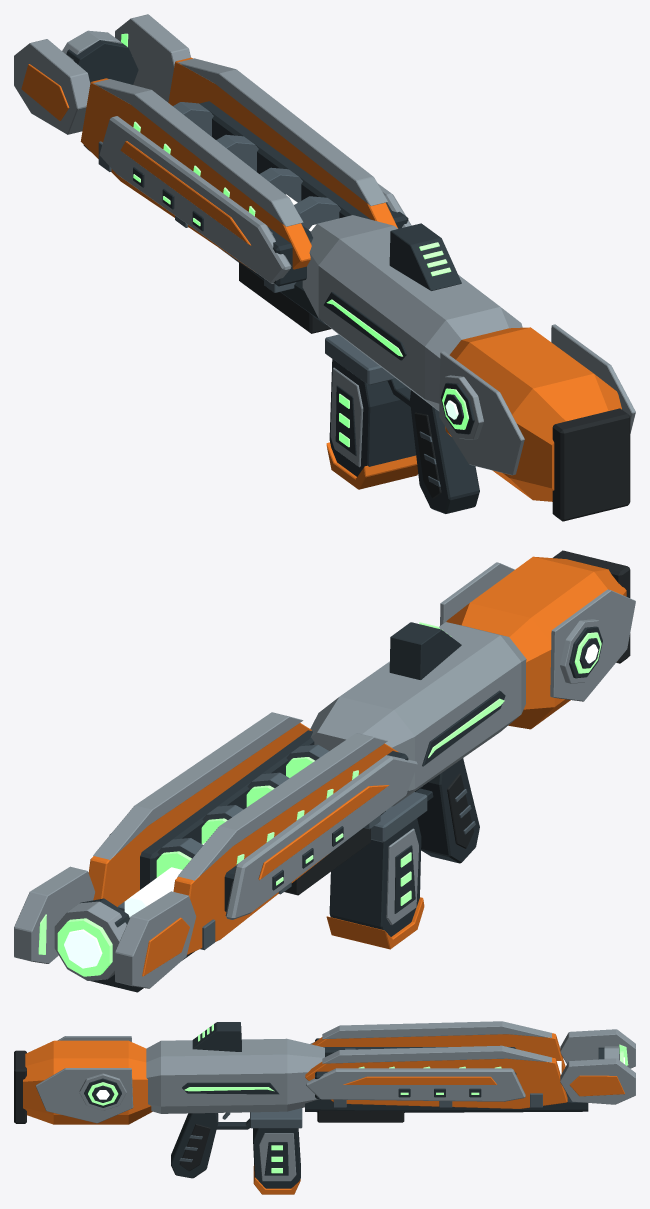
File: plasmarifle.glb
3 views of the same model, one above another, from view 1: azimuth 30°, elevation 25°; view 2: azimuth 150°, elevation 25°; view 3: azimuth 270°, elevation 25° (orthographic). The views are drawn at different scales.
Visible parts, largest first — view 1: Body | 01 | ceramic gray receiver, Body | 04 | burnt orange enamel, Body | 03 | graphite steel, Body | 05 | charcoal grip polymer, Magazine | 03 | graphite steel, Body | 02 | machined edge metal, Body | 06 | lime status emitters, Magazine | 04 | burnt orange enamel, Magazine | 02 | machined edge metal, Magazine | 01 | ceramic gray receiver; view 2: Body | 01 | ceramic gray receiver, Body | 04 | burnt orange enamel, Body | 03 | graphite steel, Magazine | 03 | graphite steel, Body | 06 | lime status emitters, Body | 05 | charcoal grip polymer, Body | 02 | machined edge metal, Body | 08 | plasma heart, Magazine | 04 | burnt orange enamel, Magazine | 02 | machined edge metal, Magazine | 01 | ceramic gray receiver; view 3: Body | 01 | ceramic gray receiver, Body | 04 | burnt orange enamel, Body | 03 | graphite steel, Body | 05 | charcoal grip polymer, Magazine | 03 | graphite steel, Magazine | 01 | ceramic gray receiver, Body | 06 | lime status emitters, Magazine | 02 | machined edge metal, Body | 02 | machined edge metal, Magazine | 04 | burnt orange enamel.
Part boxes in pixels (<box>): Body | 01 | ceramic gray receiver: <box>14,14,635,475</box>; Body | 04 | burnt orange enamel: <box>21,57,621,501</box>; Body | 03 | graphite steel: <box>66,40,479,513</box>; Body | 05 | charcoal grip polymer: <box>239,262,630,521</box>; Magazine | 03 | graphite steel: <box>329,359,415,476</box>; Body | 02 | machined edge metal: <box>98,102,440,486</box>; Body | 06 | lime status emitters: <box>121,33,468,429</box>; Magazine | 04 | burnt orange enamel: <box>326,442,418,489</box>; Magazine | 02 | machined edge metal: <box>325,334,395,385</box>; Magazine | 01 | ceramic gray receiver: <box>330,367,363,467</box>; Body | 01 | ceramic gray receiver: <box>14,562,635,988</box>; Body | 04 | burnt orange enamel: <box>88,556,626,976</box>; Body | 03 | graphite steel: <box>80,622,602,992</box>; Magazine | 03 | graphite steel: <box>329,818,421,936</box>; Body | 06 | lime status emitters: <box>38,622,601,976</box>; Body | 05 | charcoal grip polymer: <box>284,550,630,895</box>; Body | 02 | machined edge metal: <box>118,744,475,950</box>; Body | 08 | plasma heart: <box>64,644,598,968</box>; Magazine | 04 | burnt orange enamel: <box>326,897,424,949</box>; Magazine | 02 | machined edge metal: <box>371,792,427,842</box>; Magazine | 01 | ceramic gray receiver: <box>386,828,418,924</box>; Body | 01 | ceramic gray receiver: <box>35,1021,635,1123</box>; Body | 04 | burnt orange enamel: <box>23,1033,624,1124</box>; Body | 03 | graphite steel: <box>84,1022,604,1178</box>; Body | 05 | charcoal grip polymer: <box>14,1050,404,1171</box>; Magazine | 03 | graphite steel: <box>253,1128,300,1188</box>; Magazine | 01 | ceramic gray receiver: <box>259,1133,296,1181</box>; Body | 06 | lime status emitters: <box>88,1024,628,1105</box>; Magazine | 02 | machined edge metal: <box>250,1108,302,1128</box>; Body | 02 | machined edge metal: <box>179,1048,542,1162</box>; Magazine | 04 | burnt orange enamel: <box>253,1165,300,1194</box>.
Bounding box in the file's own units: 0.196 × 0.3506 × 1.24.
